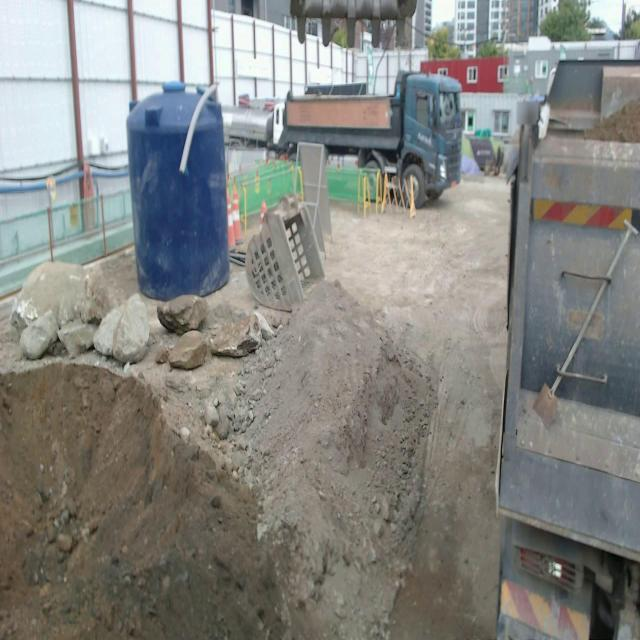red-sand: (0, 183, 508, 639)
rocks: (165, 373, 260, 477)
stone: (11, 262, 109, 359), (94, 293, 150, 362), (208, 316, 260, 357), (156, 330, 208, 370), (157, 295, 209, 334)
